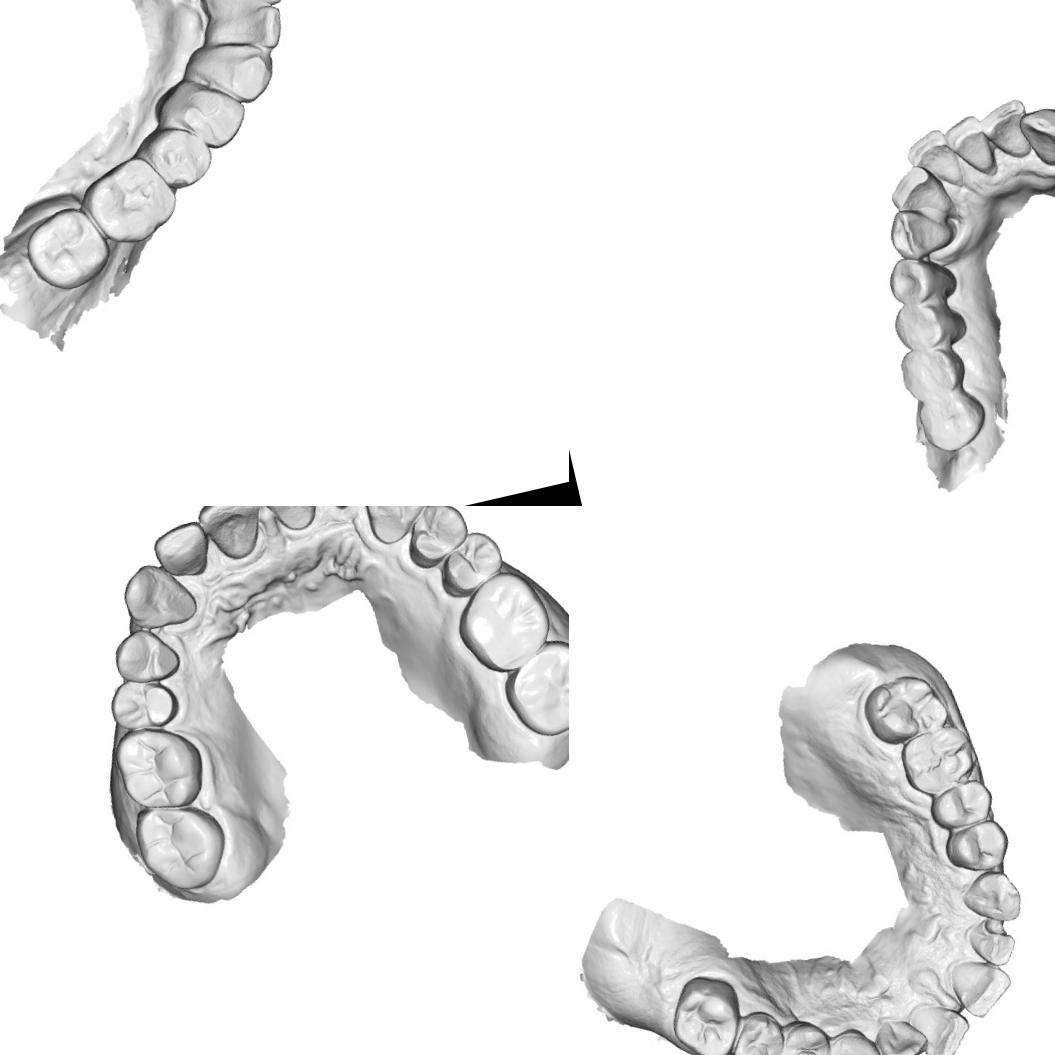canine: (183, 30, 281, 115), (111, 554, 204, 640), (883, 197, 959, 265), (956, 864, 1026, 931), (355, 506, 438, 550), (867, 1007, 932, 1055), (1015, 98, 1055, 172)
incisor: (946, 947, 1017, 1021), (881, 156, 955, 226), (147, 516, 219, 585), (192, 506, 270, 568), (973, 95, 1038, 168), (900, 123, 966, 194), (904, 993, 977, 1055), (938, 111, 1000, 181), (223, 0, 291, 59), (964, 916, 1022, 972), (246, 506, 327, 540), (213, 0, 285, 20)
molar: (445, 562, 560, 682), (126, 790, 238, 902), (75, 148, 186, 254), (107, 716, 214, 822), (17, 198, 118, 300), (494, 631, 569, 747), (856, 666, 954, 752), (661, 969, 750, 1055), (895, 719, 985, 803), (912, 382, 993, 459), (894, 338, 972, 406), (720, 1005, 792, 1055)
premolar: (138, 118, 220, 196), (101, 668, 184, 740), (430, 525, 508, 601), (108, 622, 185, 693), (397, 506, 475, 573), (888, 295, 971, 357), (178, 82, 249, 153), (882, 248, 960, 312), (940, 816, 1015, 879), (923, 775, 998, 834), (769, 1012, 838, 1055), (819, 1021, 887, 1055)
